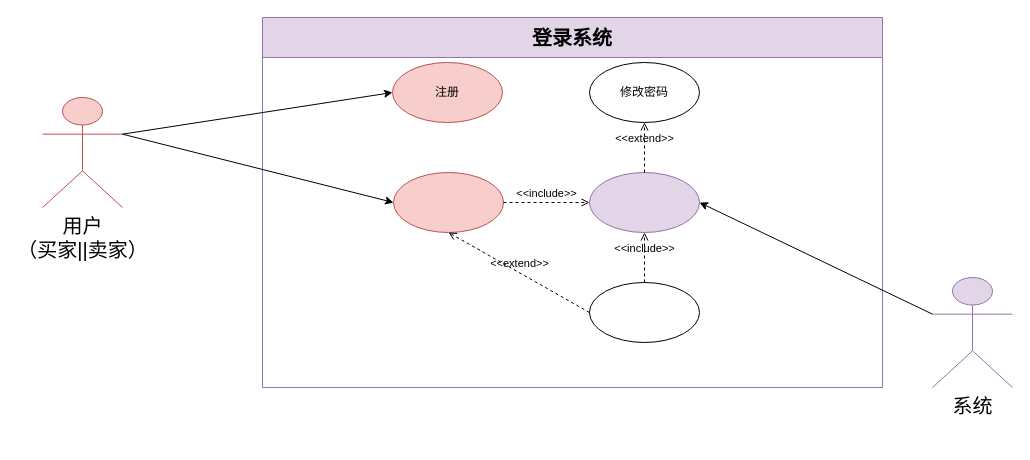
The diagram is 1030 pixels wide and 460 high, and some of its shapes have lost their labels. The centre of each missing label's shape, as x and y in pixels:
"忘记密码" belongs at point 644,312.
"登录" belongs at point 448,202.
"验证" belongs at point 644,202.
